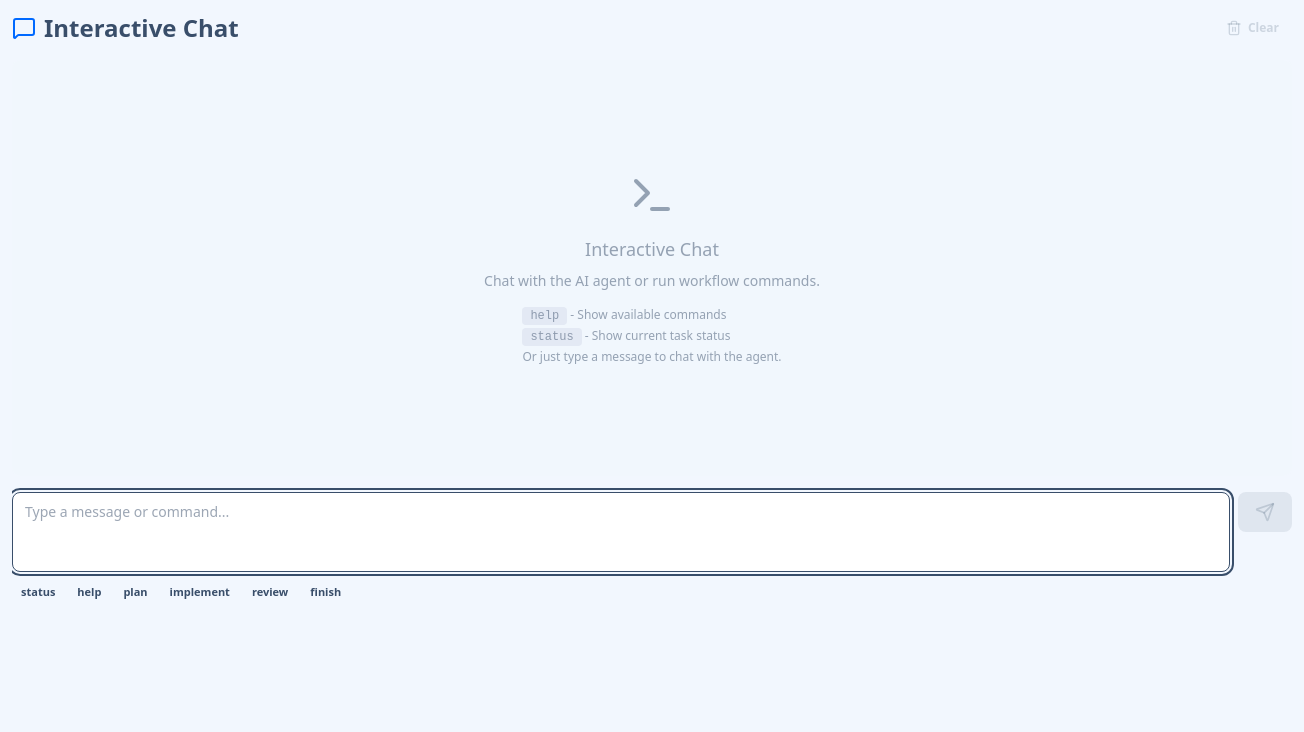
Scenario: Chat › falls back to response message for non-help commands
In the text box: (621, 532) [12,492,1230,572], type "status"
Then press Enter
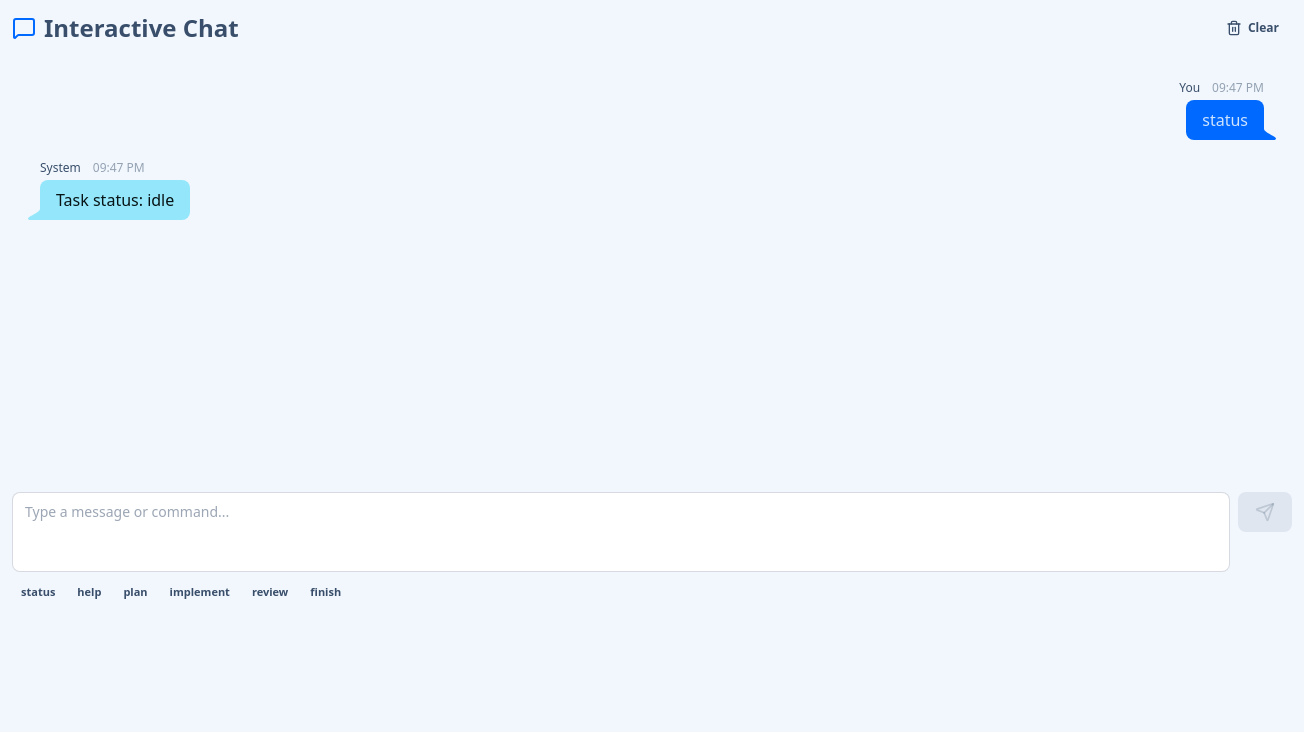
expect the text "Task status: idle" is shown: met, box [40,180,190,220]
